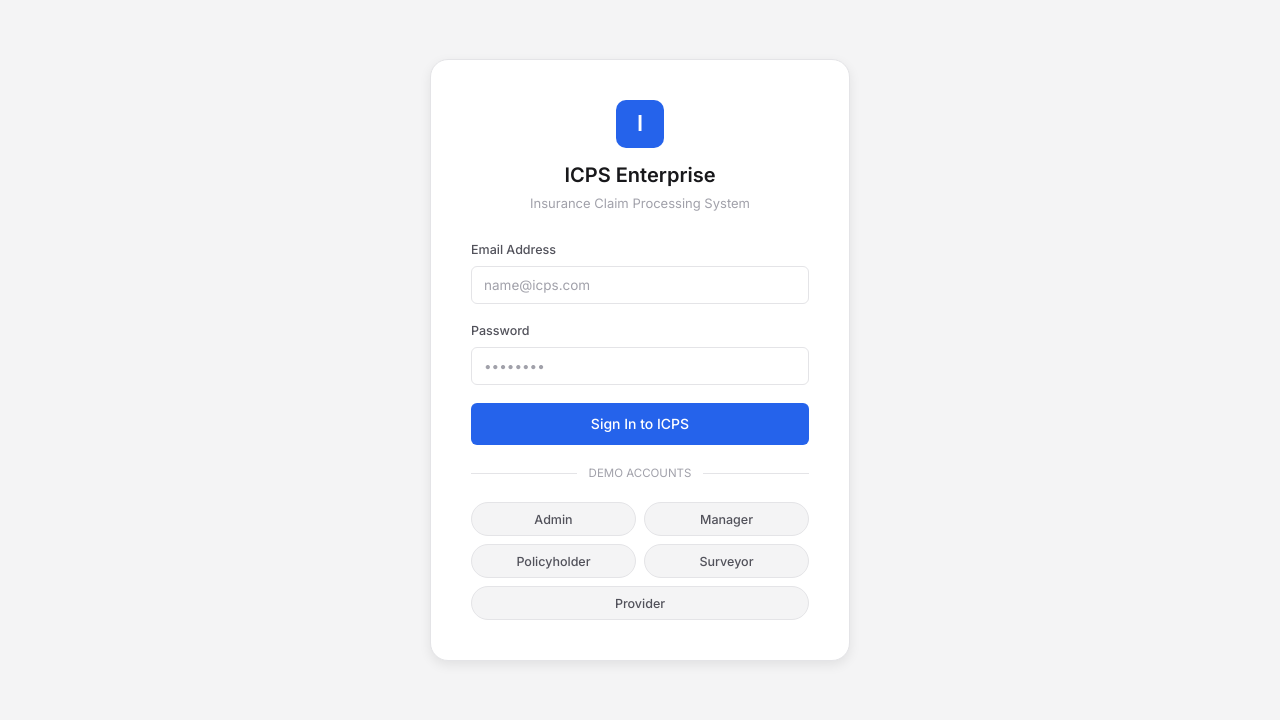
it: ICPS Enterprise RBAC Flows › Role: admin › logs in as admin via demo button
The width and height of the screenshot is (1280, 720).
Step 1. Click the button "Admin" → point(554, 519), box [471,502,636,536]
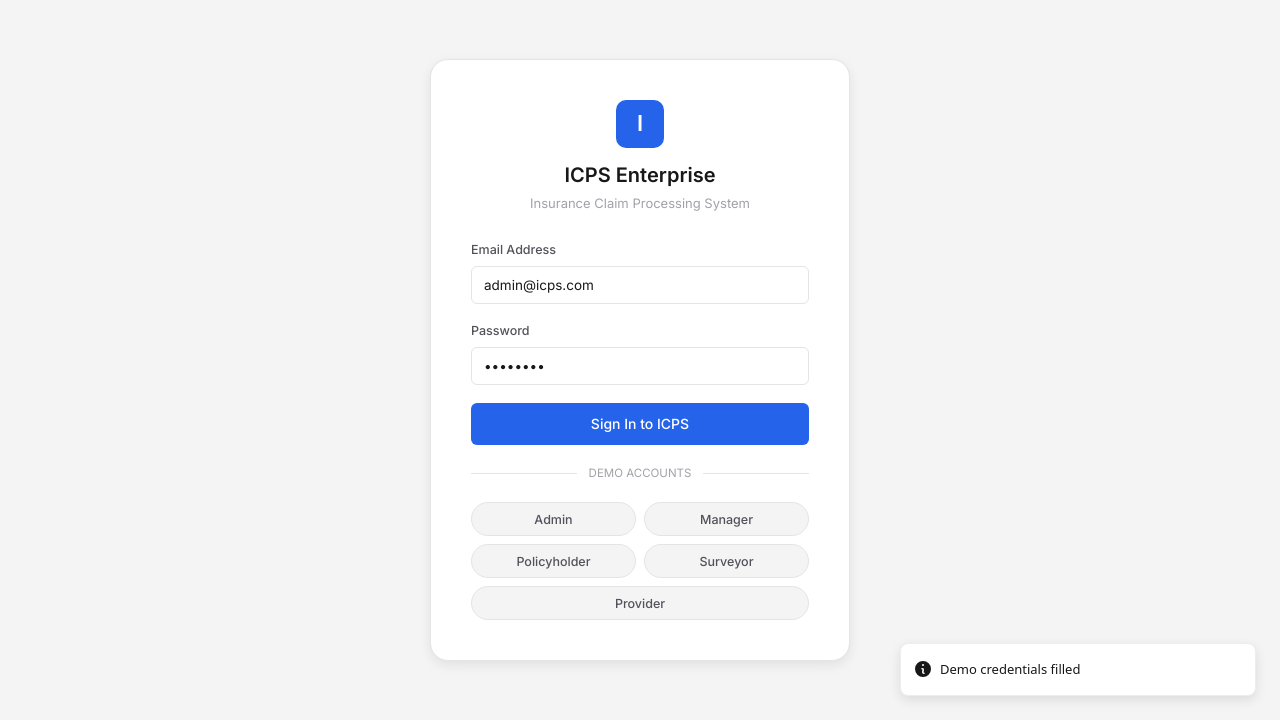
Expected: the password field labelled "Password" holds "password", [471,347,809,385]
Step 2. Click the button "Sign In to ICPS" → point(640, 424), box [471,403,809,445]
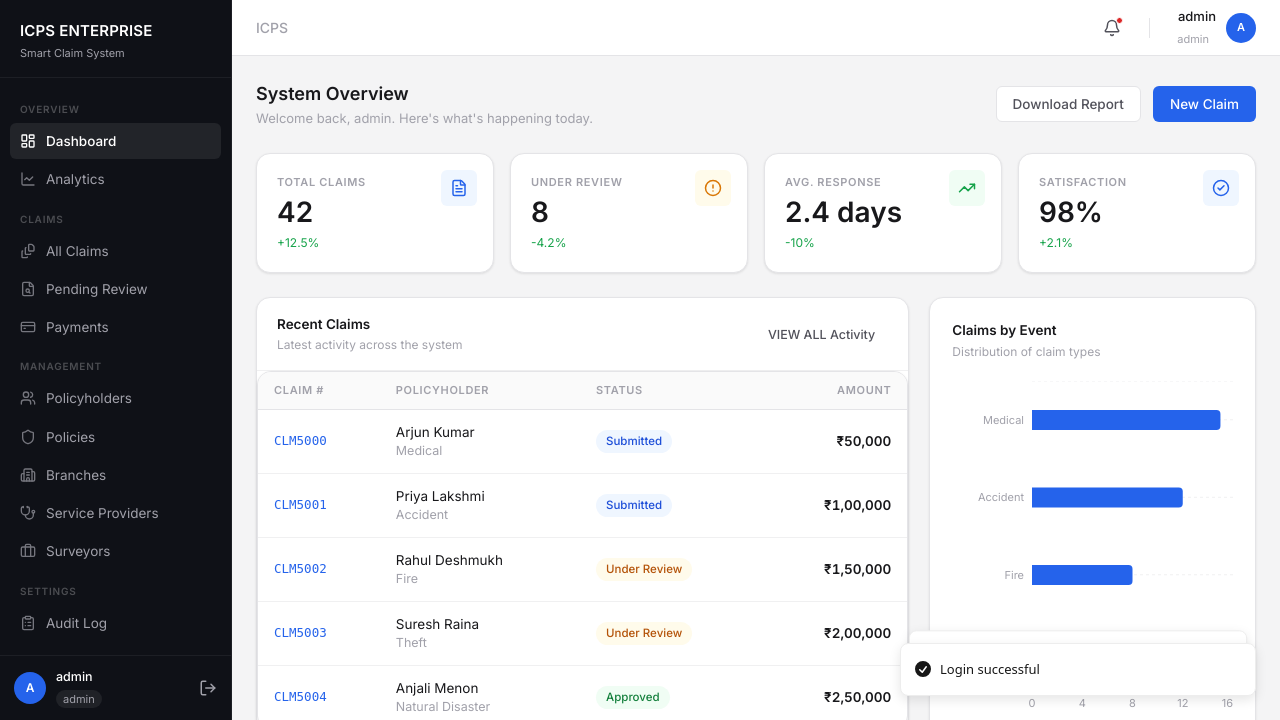
Expected: the heading "System Overview" is shown, [256,83,409,104]
